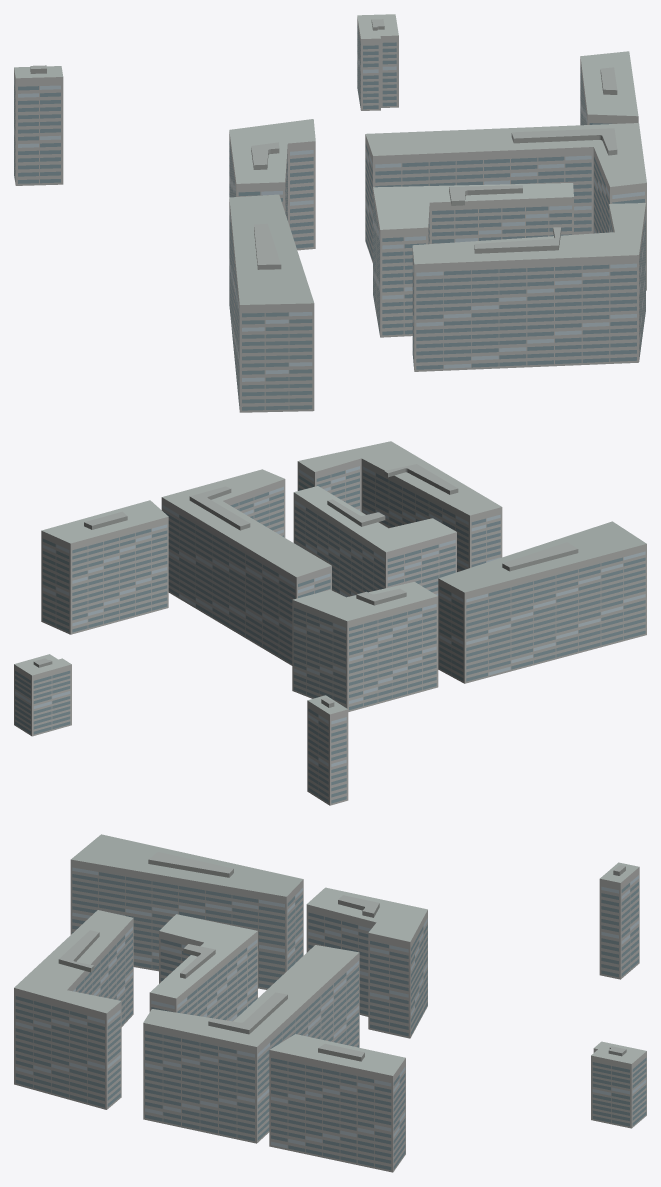
The model's file is apt-a13883602.glb.
The picture shows the model from 3 angles, top to bottom: view 1: azimuth 30°, elevation 25°; view 2: azimuth 150°, elevation 25°; view 3: azimuth 270°, elevation 25°; orthographic projection. The views are drawn at different scales.
Visible parts, largest first — view 1: apt-a13883602; view 2: apt-a13883602; view 3: apt-a13883602.
Part boxes in pixels (x1,y1,x2,y2): apt-a13883602: [14, 14, 646, 412]; apt-a13883602: [14, 441, 646, 805]; apt-a13883602: [14, 834, 646, 1172].
Bounding box in the file's own units: 245 × 47.81 × 272.
